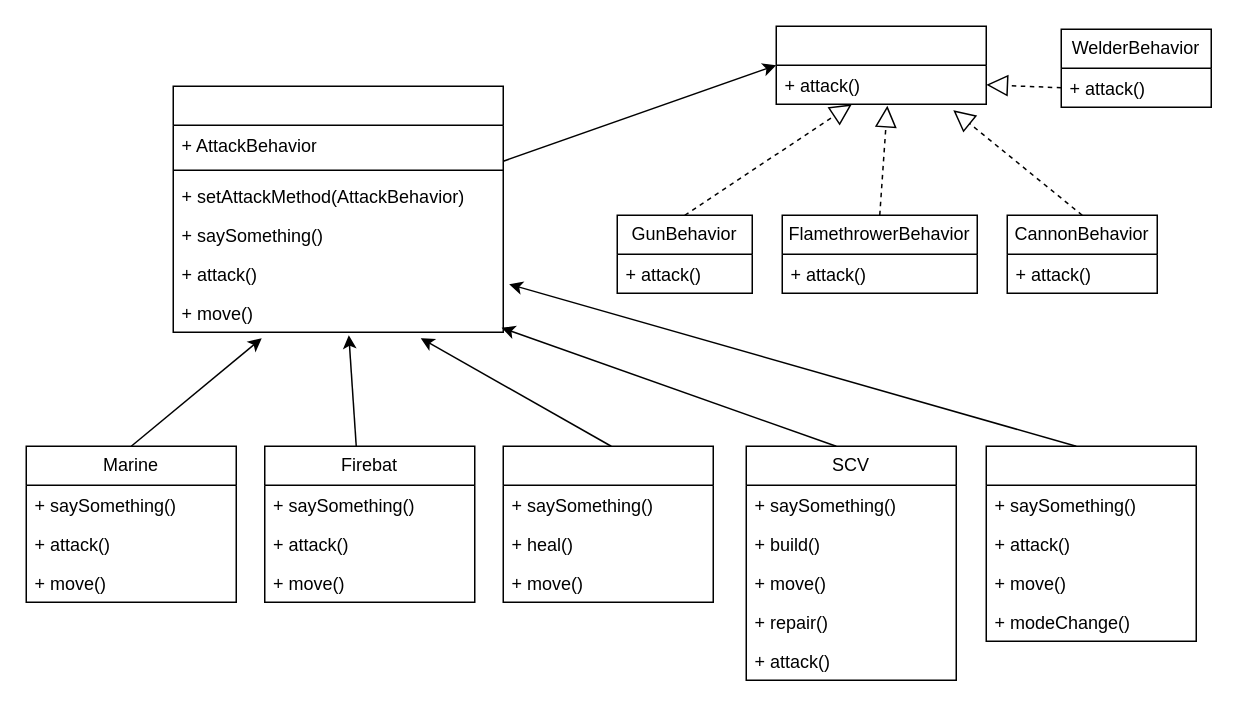
Image size: 1238x711. Some labels were removed from this diagram. The shapes that lost their labels are listed below. From the top down, each one's box as (x1, y1, x2, y2) in pixels, then its label:
(775, 25, 986, 104): AttackBehavior
(172, 85, 503, 332): Terran
(502, 445, 713, 602): Medic
(985, 445, 1196, 641): Tank
